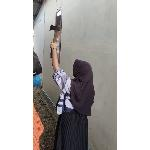Kapak: (46, 24, 64, 61)
